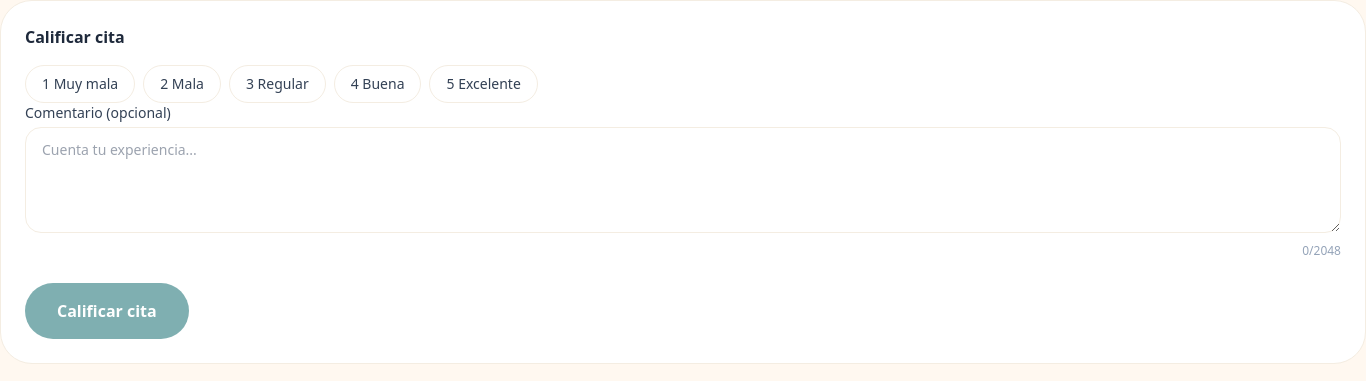
RatingForm › disables the submit button (aria-busy) while creating
Click the radio button with aria-label "2 estrella": (182, 84) [143, 65, 221, 103]
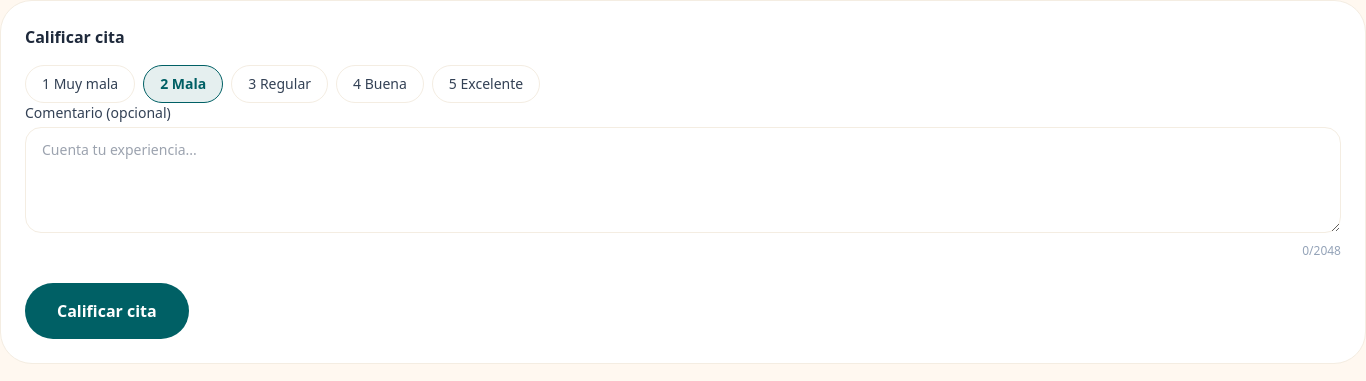
Click the button "Calificar cita": (107, 311) [25, 283, 189, 339]
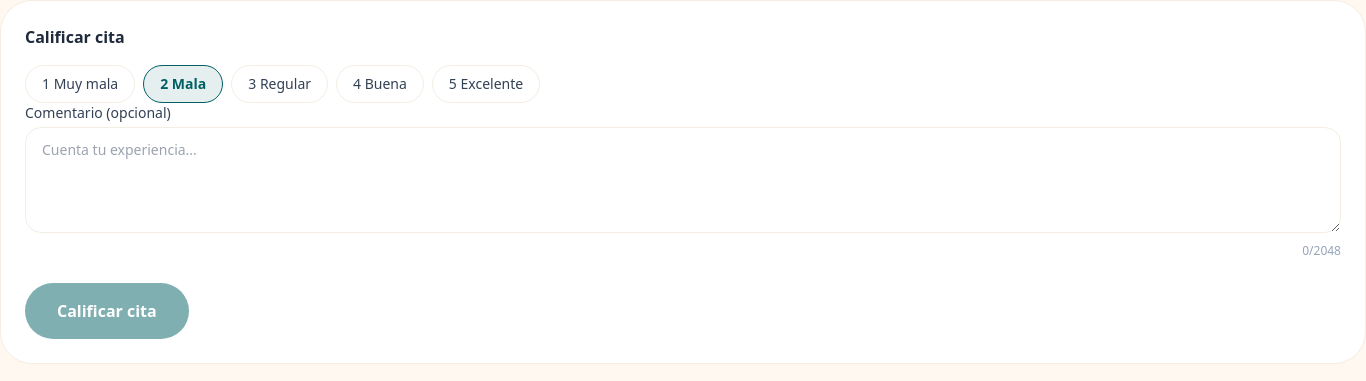
Now the button "Calificar cita" is disabled, box [25, 283, 189, 339]
